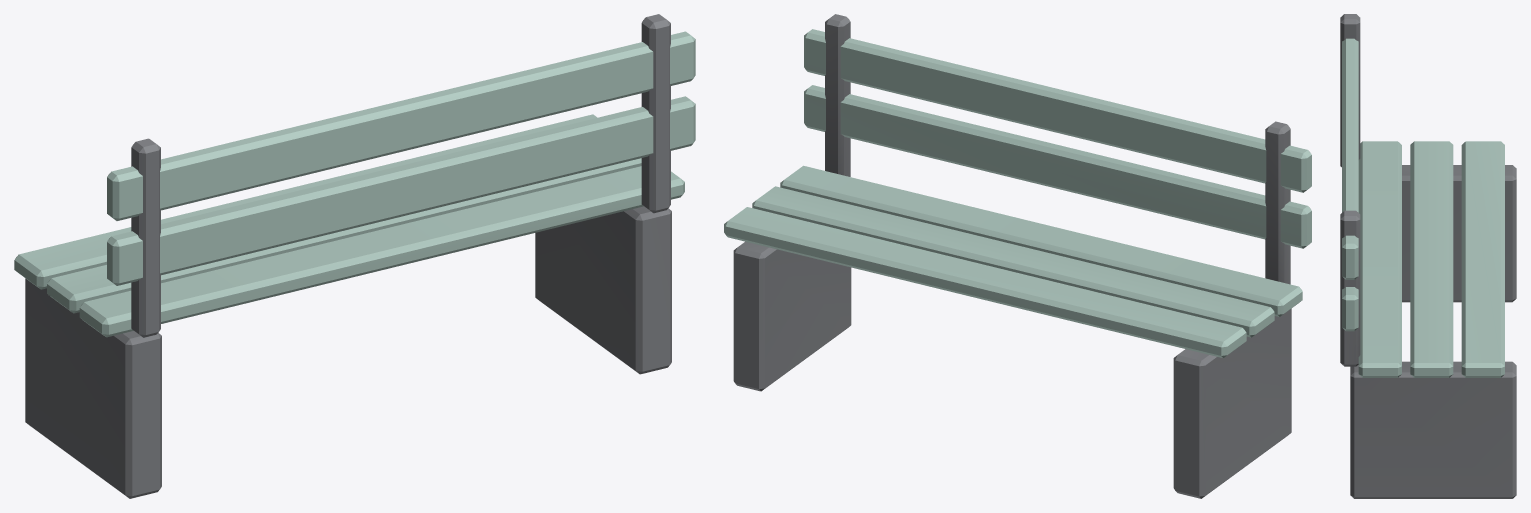
The model's file is furn_garden_bench__mint.glb.
The picture shows the model from 3 angles, left to right: view 1: azimuth 30°, elevation 25°; view 2: azimuth 150°, elevation 25°; view 3: azimuth 270°, elevation 25°; orthographic projection. The views are drawn at different scales.
Bounding box in the file's own units: 1.6 × 0.93 × 0.53.
